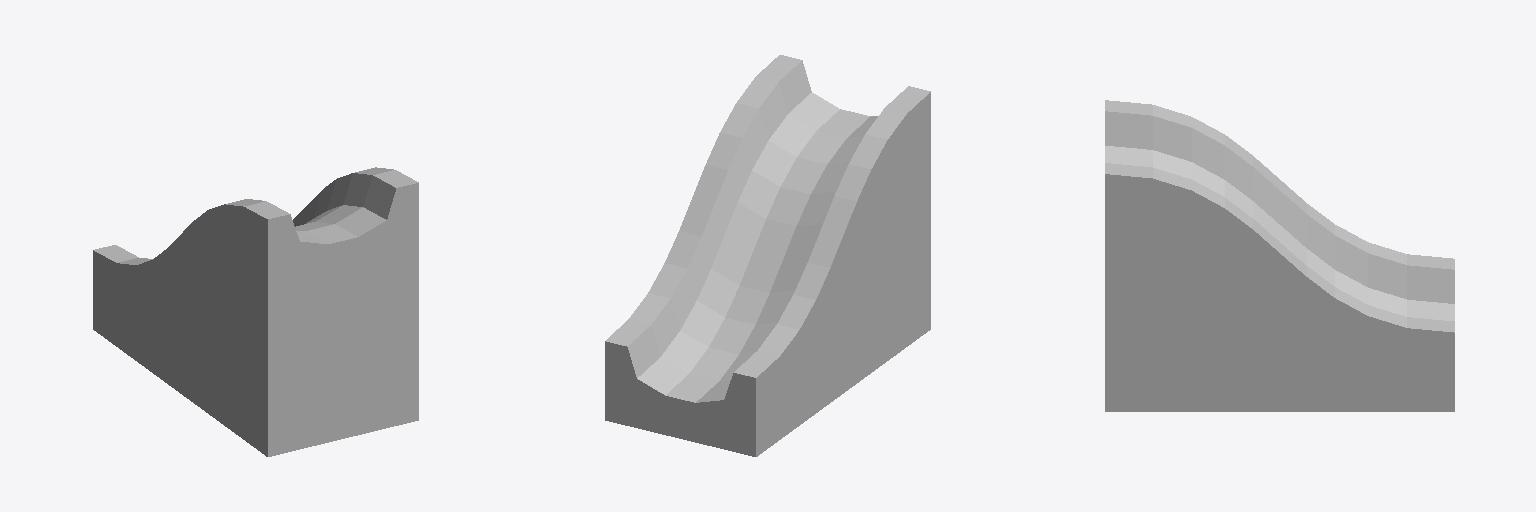
Rendered from ramp-long-solid-c.obj.
3 renders of one model, left to right at view 1: azimuth 30°, elevation 25°; view 2: azimuth 150°, elevation 25°; view 3: azimuth 270°, elevation 25°, orthographic.
Visible parts, largest first — view 1: ramp-long-solid-c; view 2: ramp-long-solid-c; view 3: ramp-long-solid-c.
Boxes of the visible parts, x1,y1,x2,y2 form: ramp-long-solid-c: [93, 167, 418, 456]; ramp-long-solid-c: [605, 55, 930, 456]; ramp-long-solid-c: [1105, 100, 1454, 411].
Size of the model in its own units: 1 by 1.5 by 2.